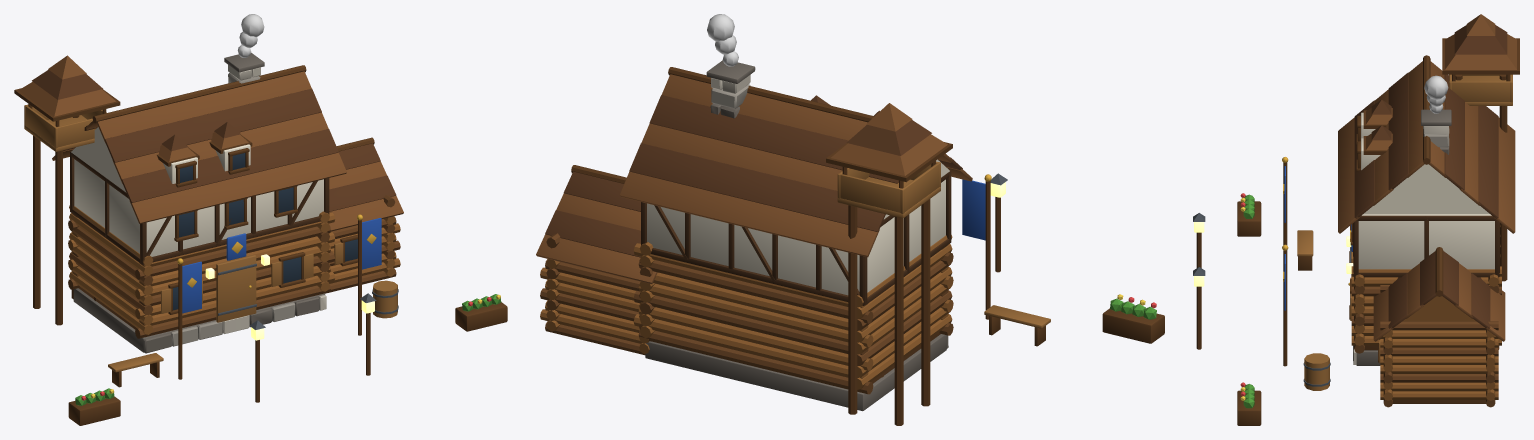
Rendered from budynek_glowny_poz10.glb.
3 views of the same model, side by side, from view 1: azimuth 30°, elevation 25°; view 2: azimuth 150°, elevation 25°; view 3: azimuth 270°, elevation 25° (orthographic). The views are drawn at different scales.
Visible parts, largest first — view 1: budynek_glowny_poz10; view 2: budynek_glowny_poz10; view 3: budynek_glowny_poz10.
Part boxes in pixels (bbox=[...]): budynek_glowny_poz10: bbox=[14, 14, 507, 425]; budynek_glowny_poz10: bbox=[536, 14, 1164, 425]; budynek_glowny_poz10: bbox=[1193, 14, 1519, 425].
Bounding box in the file's own units: 12.4 × 7.55 × 8.18.
